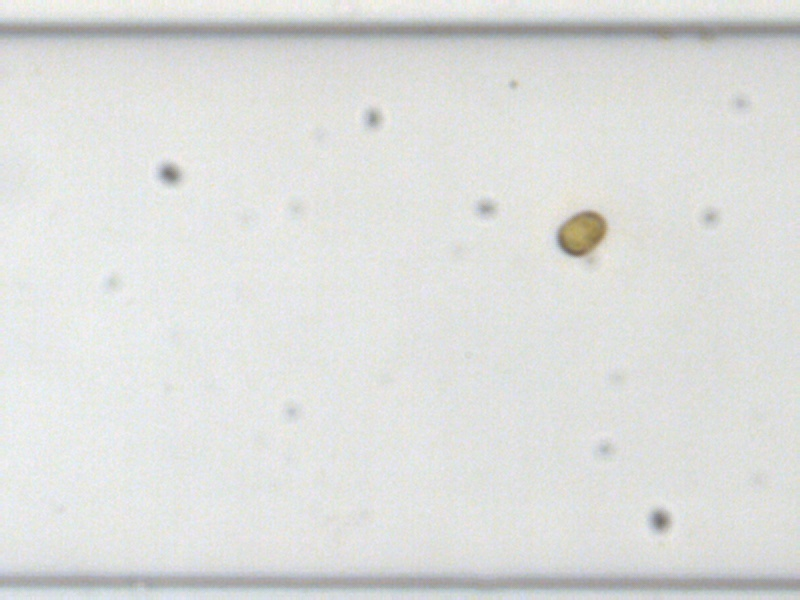Effrenium: (556, 209, 607, 258)
